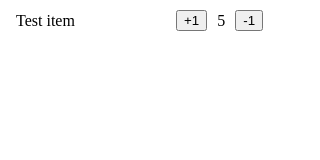
Test: ItemCounter › Should decrease count when -1 button is clicked
Step 1. Click the button "-1" → x=249, y=20, box [235,10,263,31]
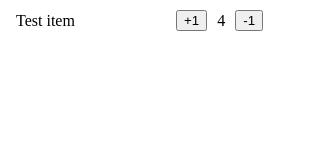
Result: the text "4" is shown at [217,12,225,30]
